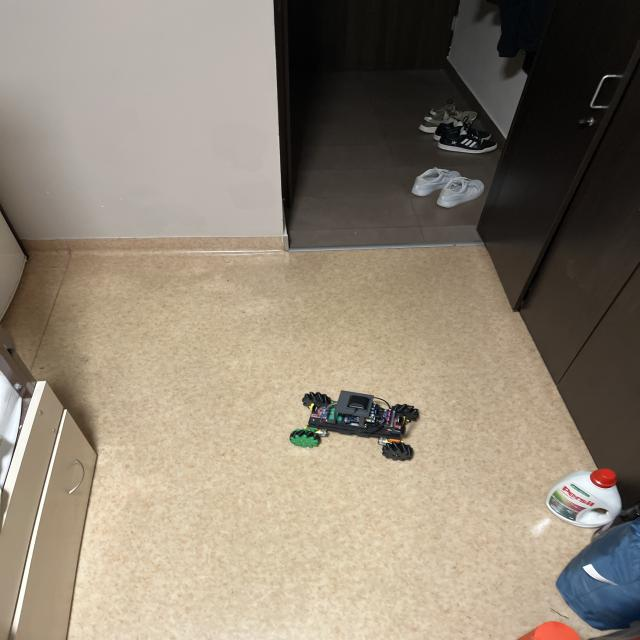robot: (290, 391, 419, 460)
